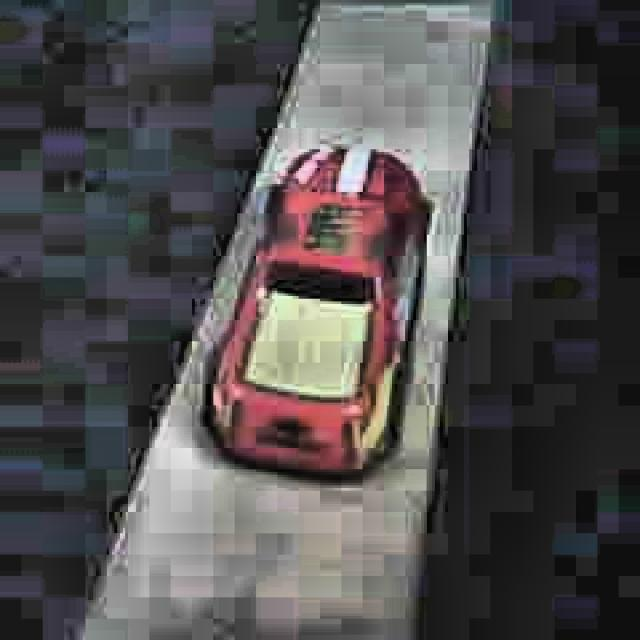car: (196, 142, 433, 488)
